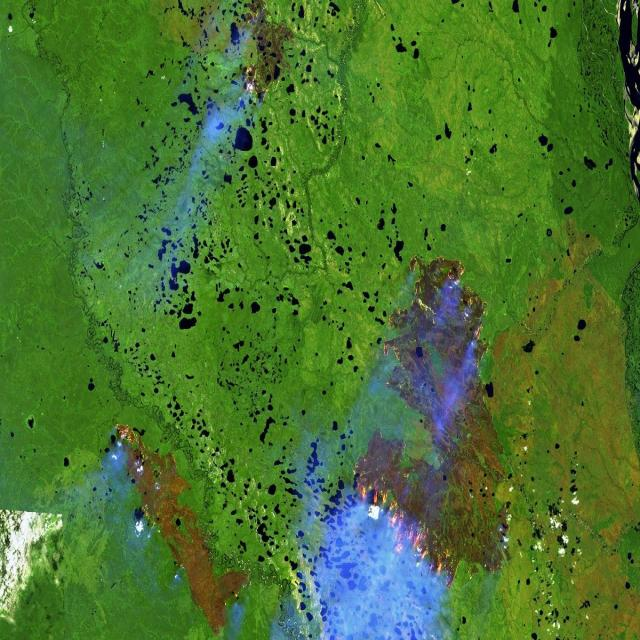fire: (335, 456, 473, 606), (374, 232, 494, 401), (92, 410, 174, 526), (219, 27, 283, 113)
